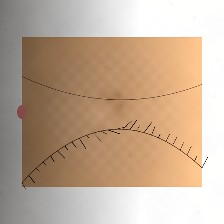hemorrhage_spot: (53, 79, 124, 135)
